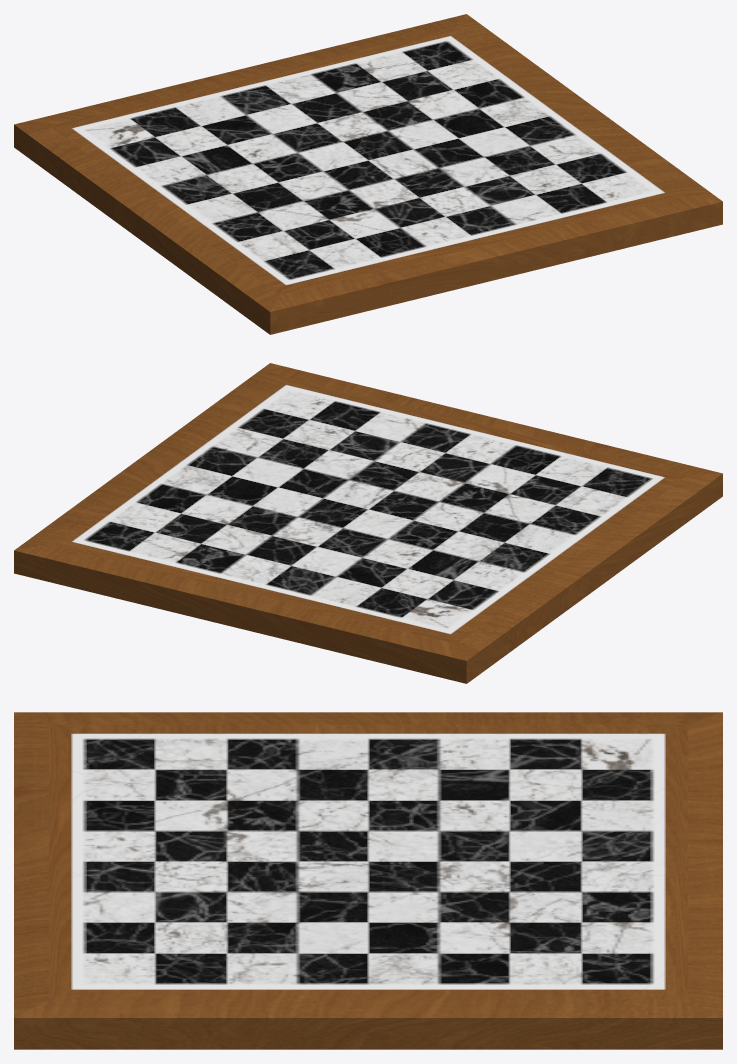
File: chess.glb
3 views of the same model, one above another, from view 1: azimuth 30°, elevation 25°; view 2: azimuth 150°, elevation 25°; view 3: azimuth 270°, elevation 25° (orthographic). The views are drawn at different scales.
Parts seen in each view (by area): view 1: Plateau; view 2: Plateau; view 3: Plateau.
Part boxes in pixels (x1,y1,x2,y2): Plateau: (14, 14, 722, 334); Plateau: (14, 363, 722, 683); Plateau: (14, 712, 722, 1049).
Size of the model in its own units: 18.37 by 0.9884 by 18.
Materials: 1 (1 with a texture image).
